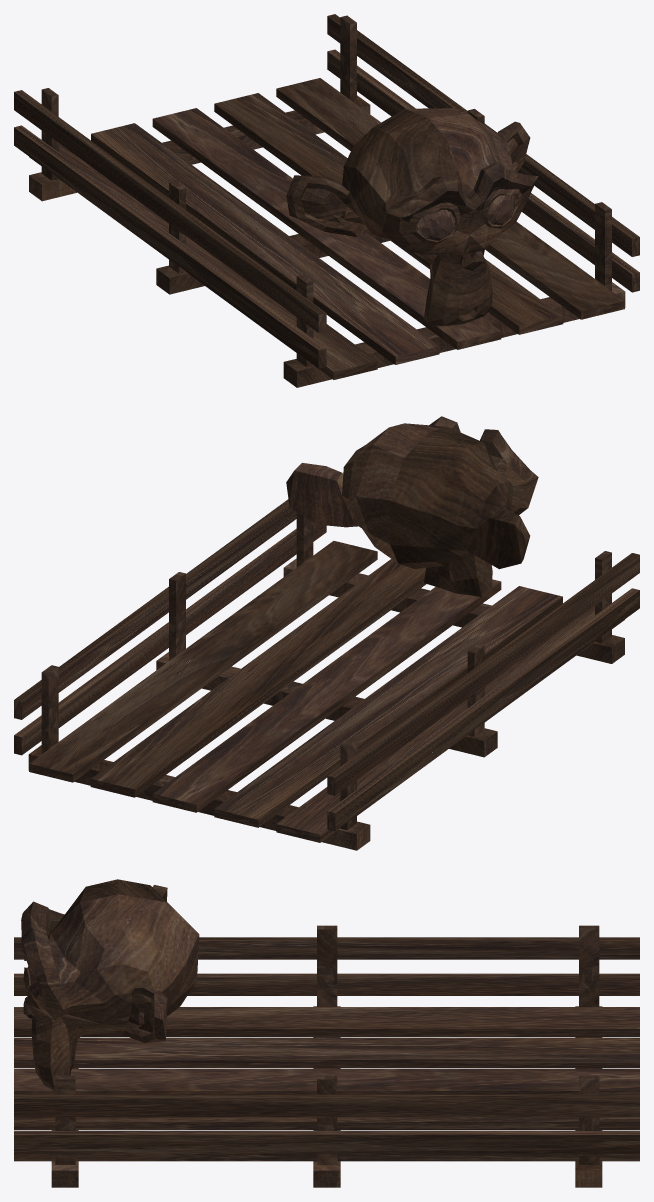
The model's file is cartbody001.gltf.
The picture shows the model from 3 angles, top to bottom: view 1: azimuth 30°, elevation 25°; view 2: azimuth 150°, elevation 25°; view 3: azimuth 270°, elevation 25°; orthographic projection. The views are drawn at different scales.
Parts seen in each view (by area): view 1: ActorCart; view 2: ActorCart; view 3: ActorCart.
Boxes of the visible parts, x1,y1,x2,y2 form: ActorCart: (14, 14, 639, 387); ActorCart: (14, 416, 639, 850); ActorCart: (14, 879, 639, 1187).
Size of what is drawn, in the model's own units: 3.72 by 2.23 by 5.98.
1 material, 1 textured.
